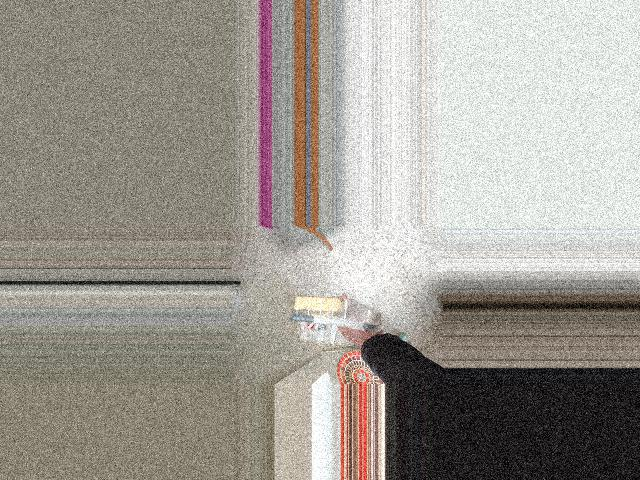cheese: (289, 271, 363, 378)
